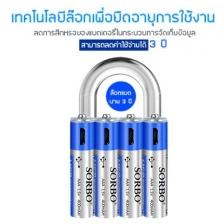battery: (116, 111, 147, 219), (139, 112, 170, 219), (66, 112, 97, 219), (93, 112, 120, 220)
